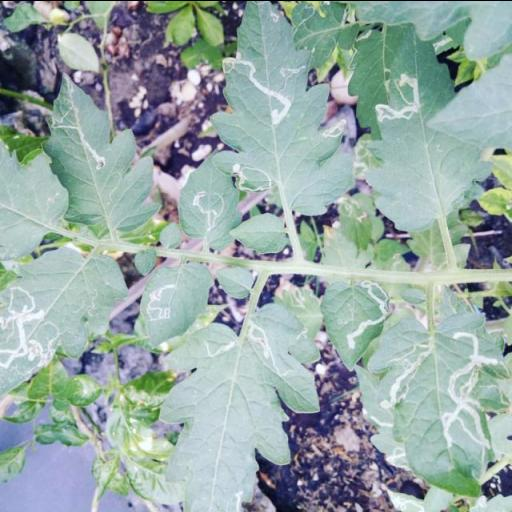Leaf Miner: (157, 304, 322, 512), (208, 0, 356, 214), (364, 308, 506, 494), (361, 24, 481, 234), (0, 244, 129, 399), (41, 73, 163, 232), (140, 260, 213, 350), (322, 280, 392, 372), (178, 158, 242, 250)
